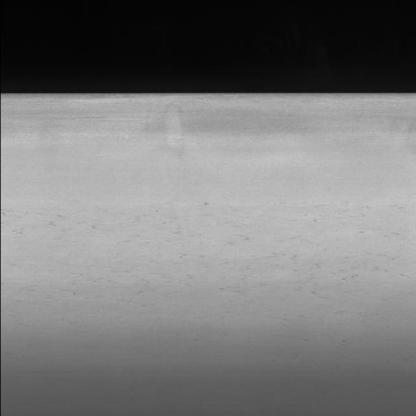silk_spot: (85, 205, 416, 309)
